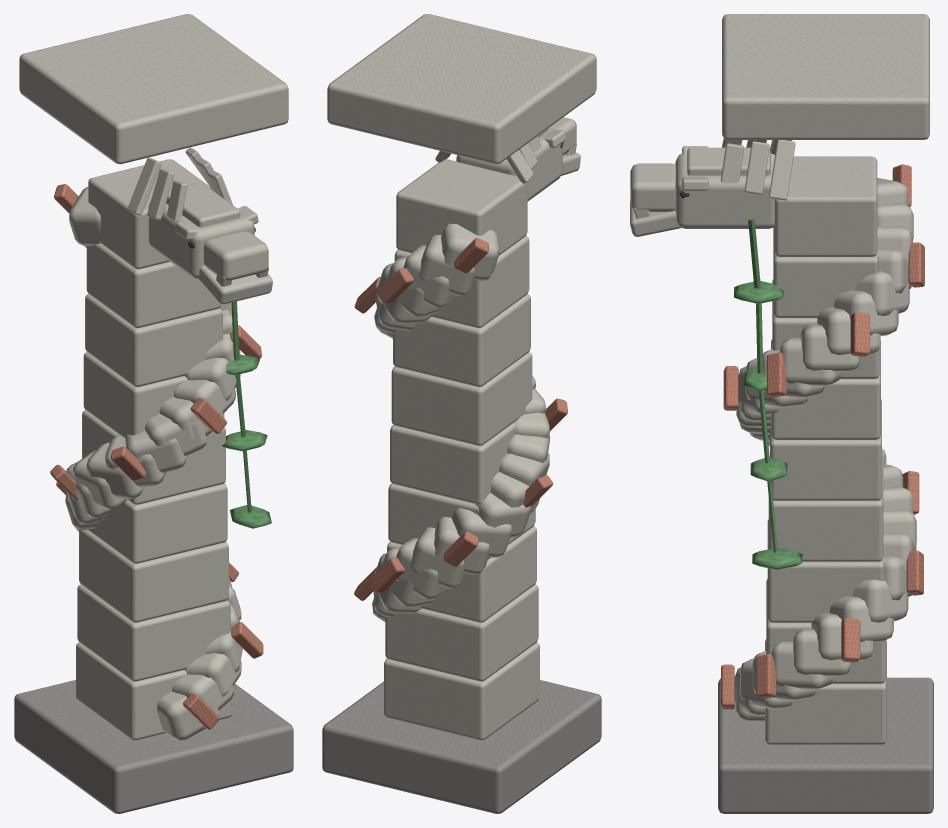
The model's file is jungle-temple-and-stone-city-feathered-serpent-column-bd615416__36135.glb.
3 views of the same model, side by side, from view 1: azimuth 30°, elevation 25°; view 2: azimuth 150°, elevation 25°; view 3: azimuth 270°, elevation 25° (orthographic). The views are drawn at different scales.
Visible parts, largest first — view 1: feathered-serpent-column; view 2: feathered-serpent-column; view 3: feathered-serpent-column.
Boxes of the visible parts, left/top/right/bottom form: feathered-serpent-column: left=14, top=14, right=293, bottom=813; feathered-serpent-column: left=322, top=14, right=601, bottom=813; feathered-serpent-column: left=630, top=14, right=933, bottom=813.
Bounding box in the file's own units: 1.16 × 4.02 × 1.55.
5 materials, 4 textured.
